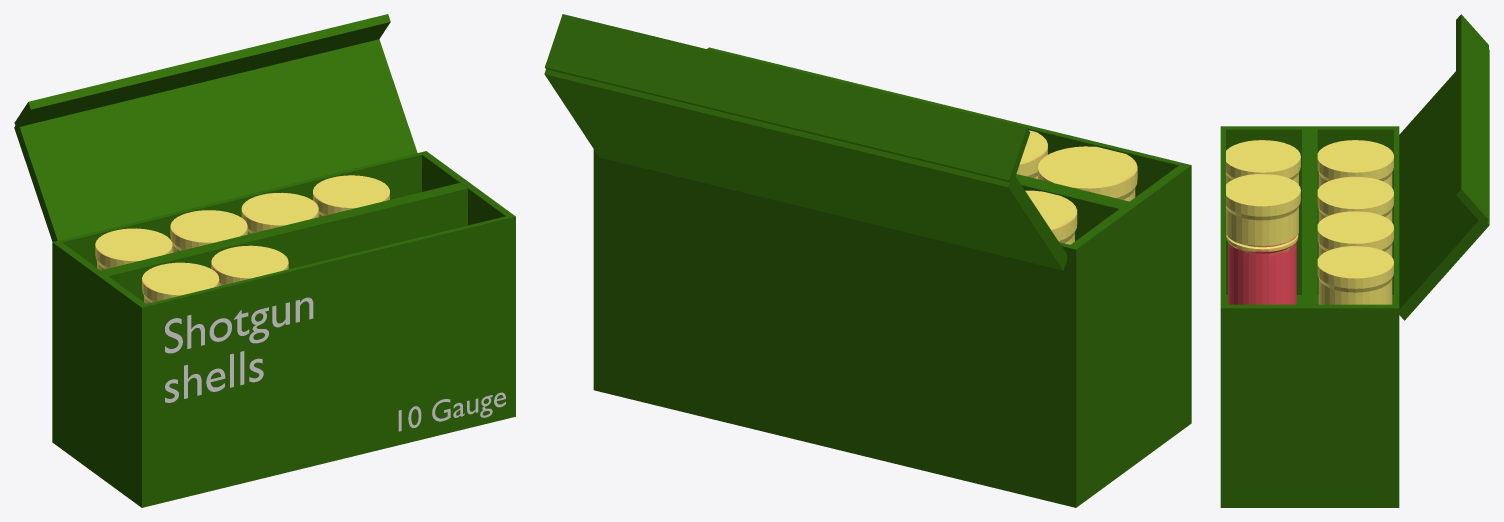
The model's file is shotgunAmmoBoxCorr.fbx.
The picture shows the model from 3 angles, left to right: view 1: azimuth 30°, elevation 25°; view 2: azimuth 150°, elevation 25°; view 3: azimuth 270°, elevation 25°; orthographic projection. The views are drawn at different scales.
Visible parts, largest first — view 1: ShotgunShellsBox, Cube.002, Cube.001, Cube.003, w, Bullet.002, Bullet.001, Bullet.003, Bullet.004, Bullet, Bullet.005, w.001; view 2: ShotgunShellsBox, Cube.002, Cube.003, Bullet, Cube.001, Bullet.001, Bullet.005; view 3: ShotgunShellsBox, Cube.002, Bullet.005, Cube.003, Bullet.004, Bullet.001, Cube.001, Bullet.002, Bullet.003, Bullet.
Part boxes in pixels (x1,y1,x2,y2): ShotgunShellsBox: (52, 151, 515, 507); Cube.002: (14, 39, 417, 241); Cube.001: (101, 183, 467, 301); Cube.003: (14, 14, 390, 126); w: (165, 297, 313, 402); Bullet.002: (170, 210, 247, 252); Bullet.001: (95, 228, 172, 270); Bullet.003: (241, 192, 318, 234); Bullet.004: (313, 175, 389, 216); Bullet: (142, 262, 219, 303); Bullet.005: (211, 245, 288, 285); w.001: (398, 392, 505, 431); ShotgunShellsBox: (593, 47, 1191, 507); Cube.002: (544, 69, 1066, 270); Cube.003: (545, 14, 1030, 182); Bullet: (1038, 146, 1137, 201); Cube.001: (1015, 174, 1129, 241); Bullet.001: (1025, 190, 1077, 244); Bullet.005: (1016, 130, 1047, 178); ShotgunShellsBox: (1220, 126, 1399, 507); Cube.002: (1399, 50, 1489, 320); Bullet.005: (1226, 173, 1300, 304); Cube.003: (1456, 14, 1488, 224); Bullet.004: (1317, 246, 1393, 304); Bullet.001: (1317, 140, 1393, 187); Cube.001: (1302, 129, 1317, 304); Bullet.002: (1317, 176, 1393, 222); Bullet.003: (1317, 211, 1393, 257); Bullet: (1226, 140, 1300, 184).
Bounding box in the file's own units: 50 × 40.39 × 31.26.
